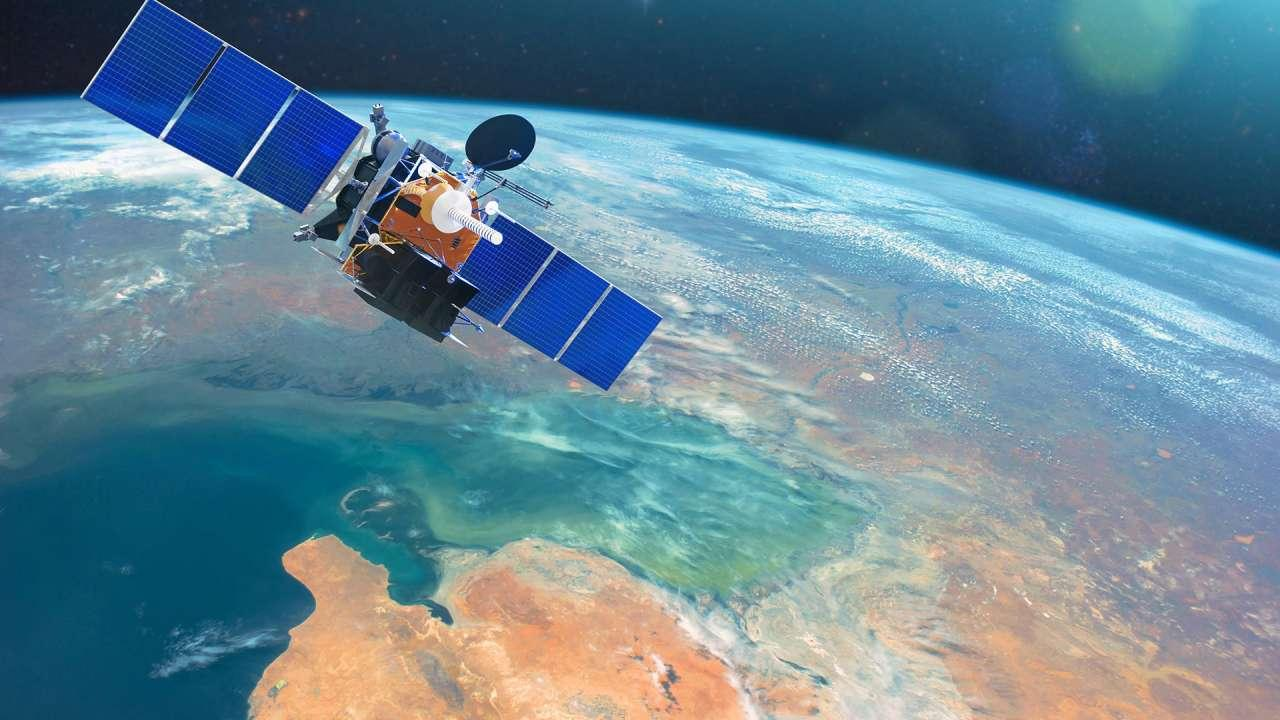antenna: (464, 111, 537, 174), (431, 190, 503, 246)
body: (318, 126, 488, 348)
solar: (77, 0, 365, 216), (452, 207, 665, 394)
